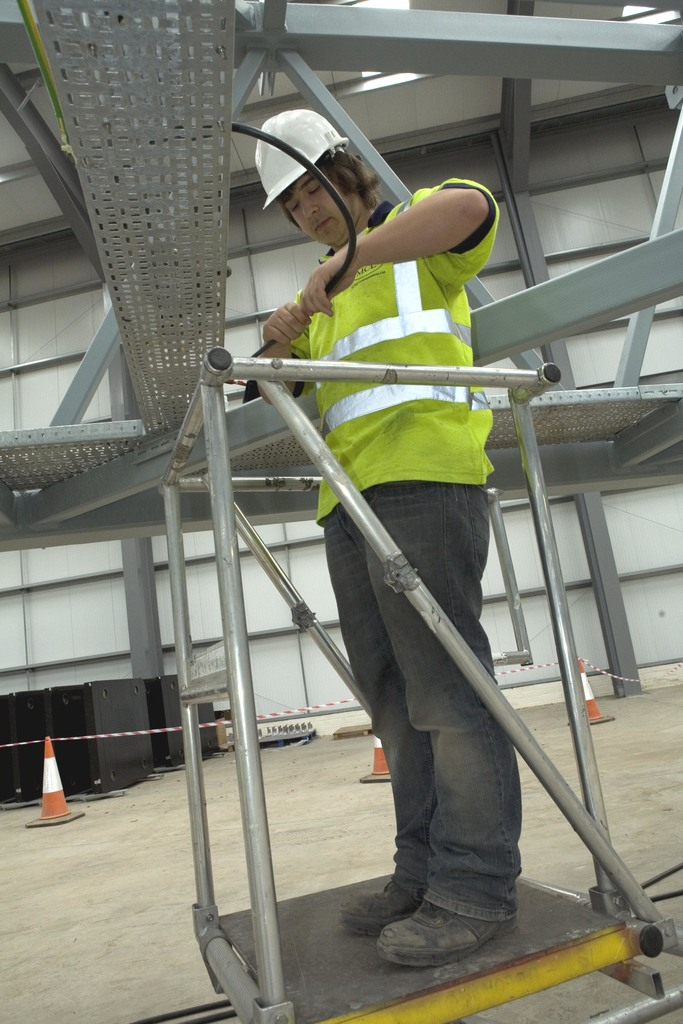Person: (228, 110, 497, 967)
